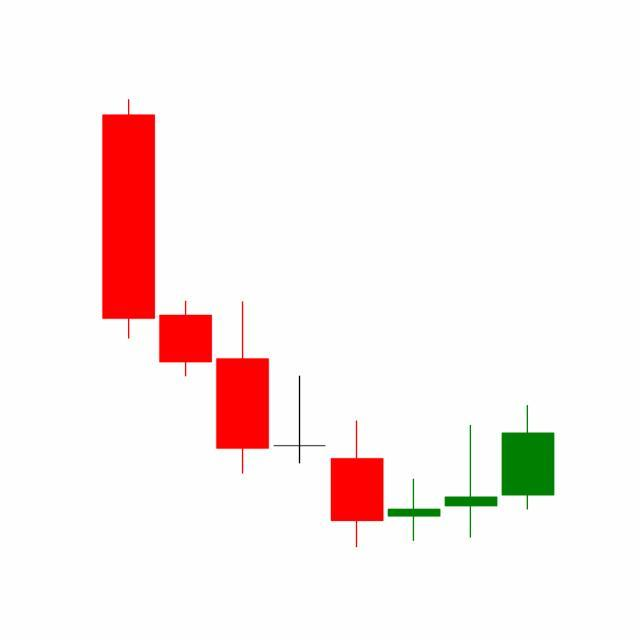Hikkake Pattern: (214, 298, 501, 548)
